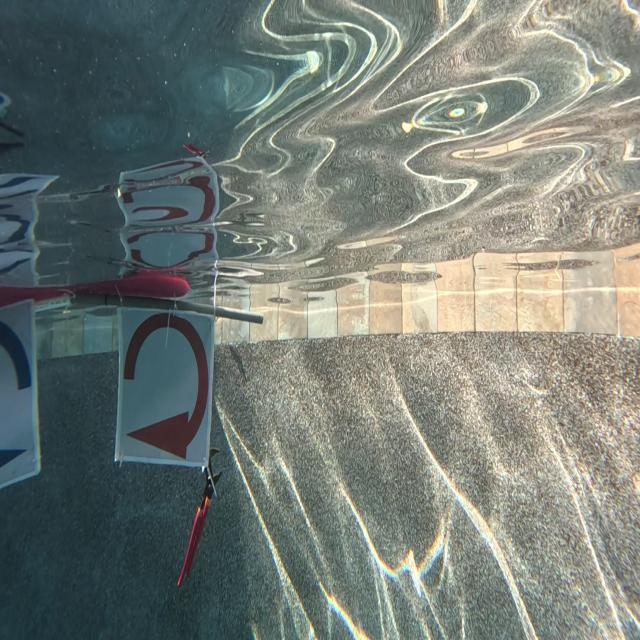blue_side: (1, 301, 45, 492)
red_side: (119, 307, 214, 465)
